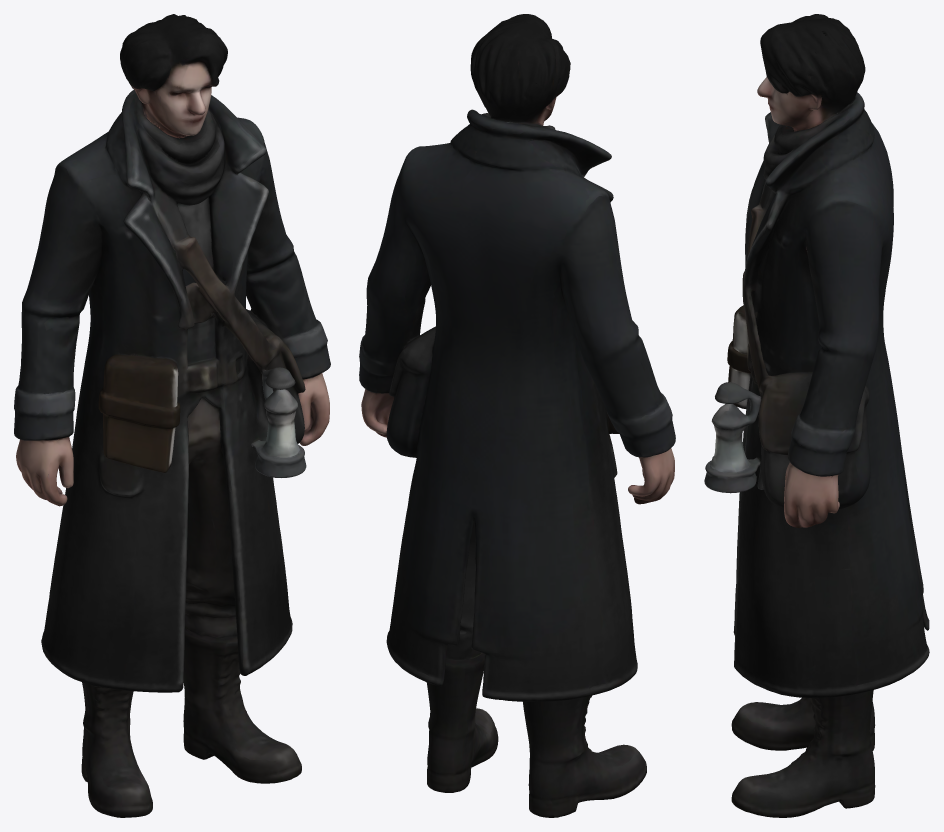
File: sample_2026-11-13T021437.391.glb
3 views of the same model, side by side, from view 1: azimuth 30°, elevation 25°; view 2: azimuth 150°, elevation 25°; view 3: azimuth 270°, elevation 25° (orthographic).
Visible parts, largest first — view 1: world; view 2: world; view 3: world.
Boxes of the visible parts, x1,y1,x2,y2 form: world: (14,14,330,817); world: (359,14,675,817); world: (704,14,929,817).
Bounding box in the file's own units: 0.4298 × 1 × 0.2715.
1 material, 1 textured.
